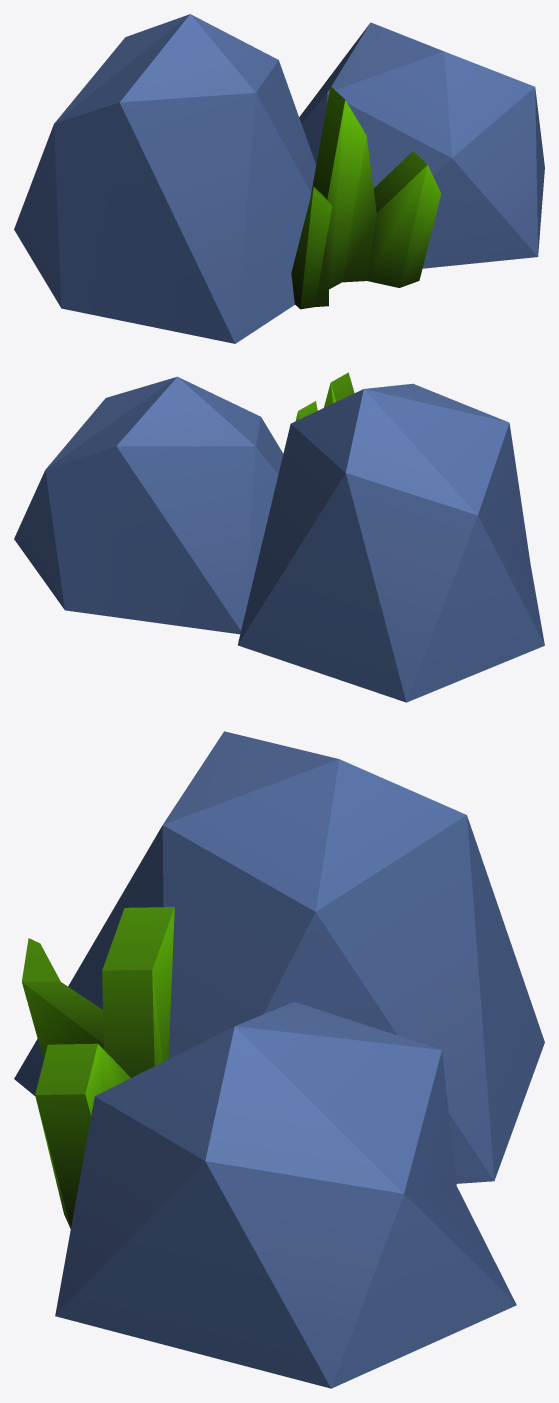
Rendered from stone_1.fbx.
3 views of the same model, one above another, from view 1: azimuth 30°, elevation 25°; view 2: azimuth 150°, elevation 25°; view 3: azimuth 270°, elevation 25° (orthographic). The views are drawn at different scales.
Parts seen in each view (by area): view 1: stone_1; view 2: stone_1; view 3: stone_1.
Boxes of the visible parts, box(x1,y1,x2,y2) form: stone_1: box(14, 14, 544, 343); stone_1: box(14, 372, 544, 702); stone_1: box(14, 731, 544, 1388).
Bounding box in the file's own units: 210 × 93.93 × 124.
